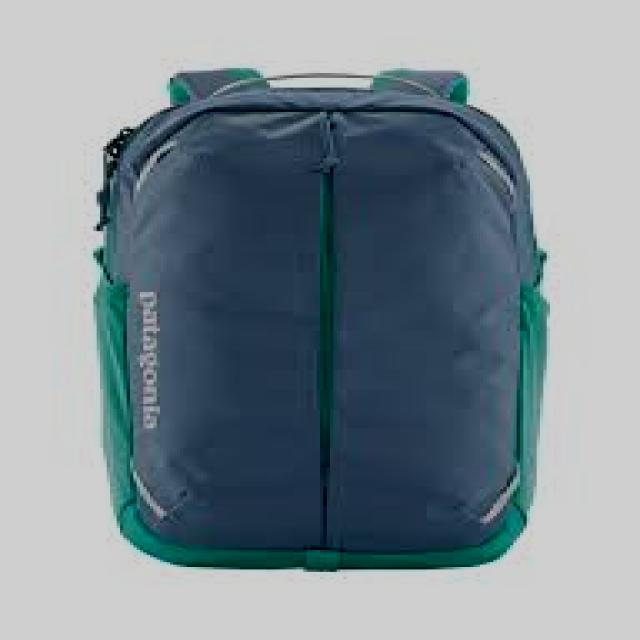backpack: (91, 67, 551, 571)
